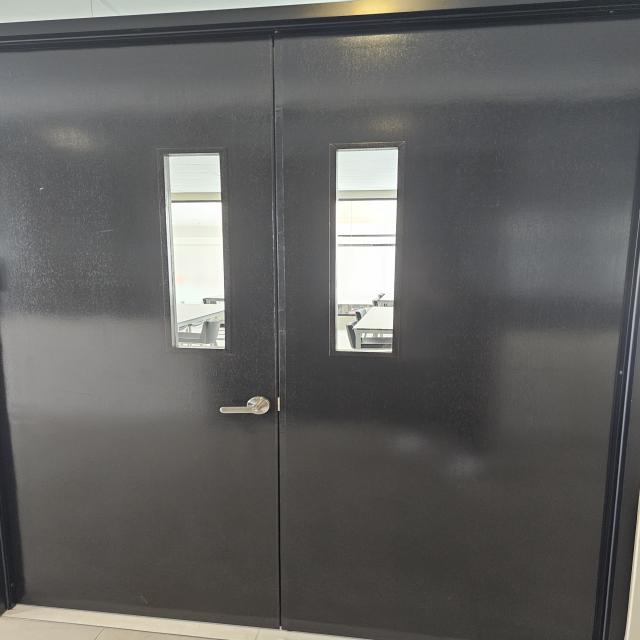door: (2, 3, 638, 637)
